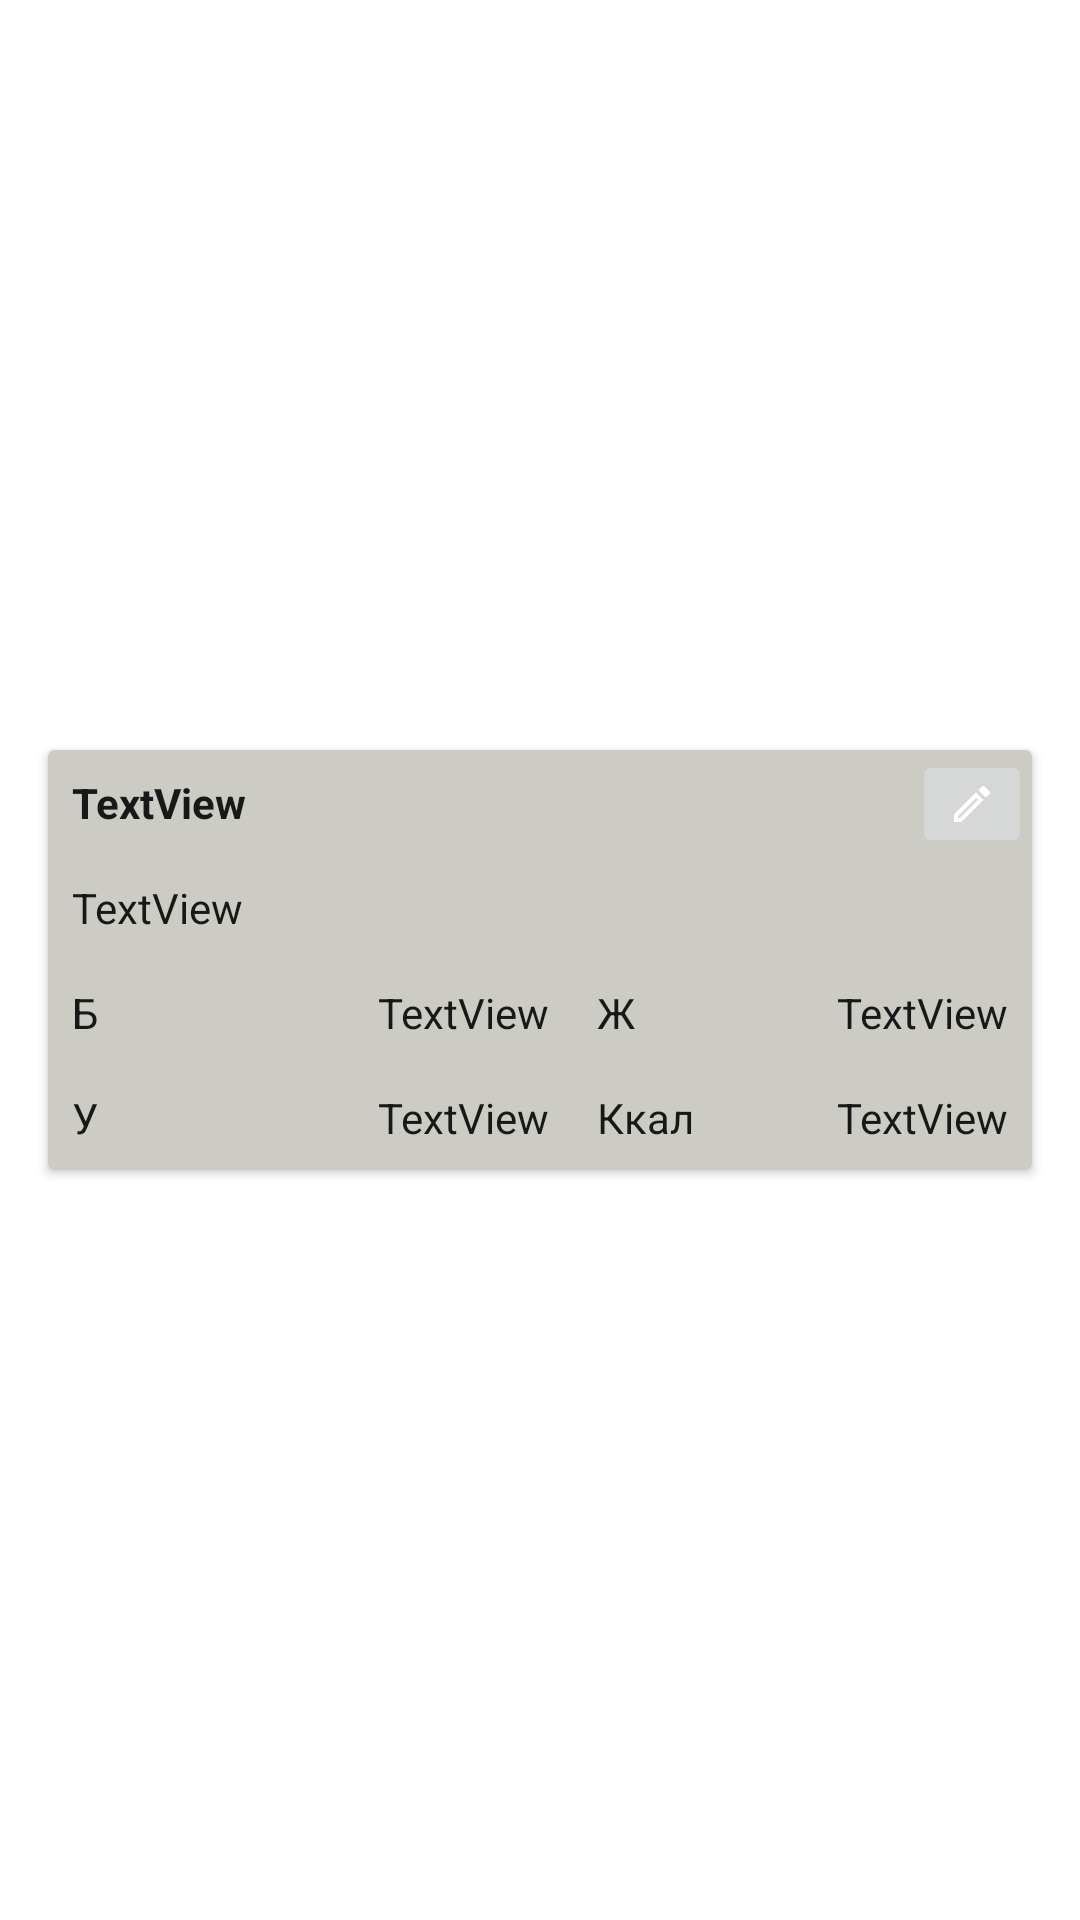

Icons on this 1080*1920 Android screen, each with its box as (x1, y1, x2, y2):
edit: (924, 750, 1032, 840)
